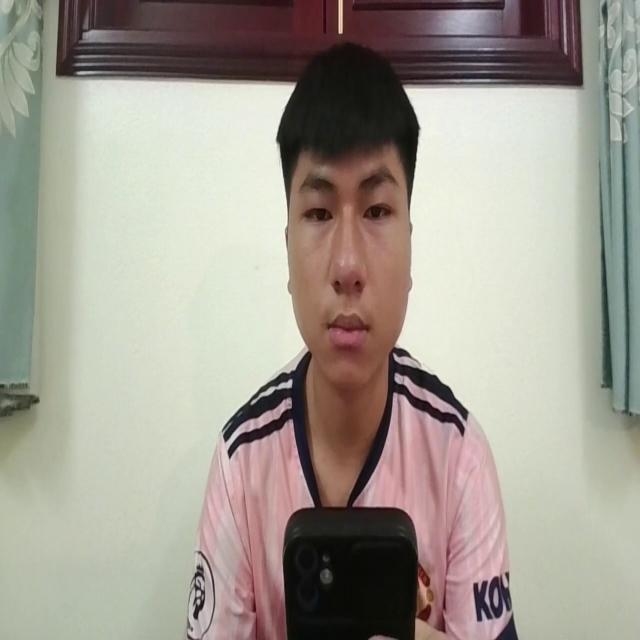phone: (281, 495, 413, 640)
student: (188, 42, 514, 640)
